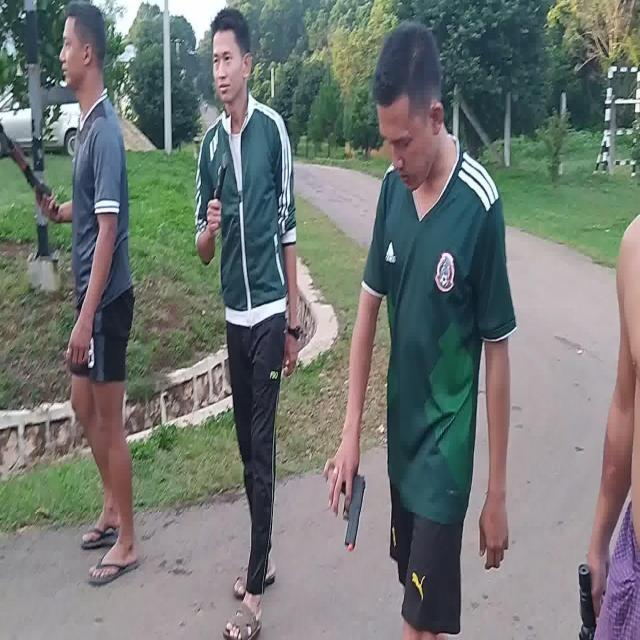gun: (2, 129, 60, 215), (342, 474, 364, 546)
